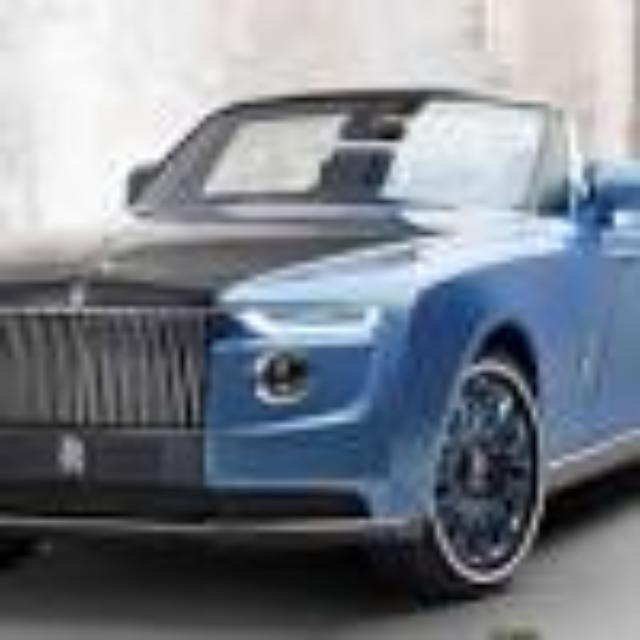rolls-royce: (2, 89, 640, 597)
